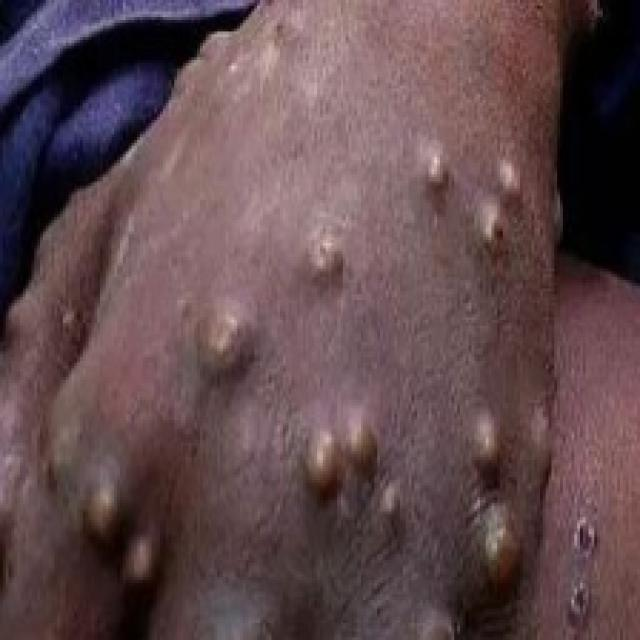Eczema: (66, 150, 551, 598)
